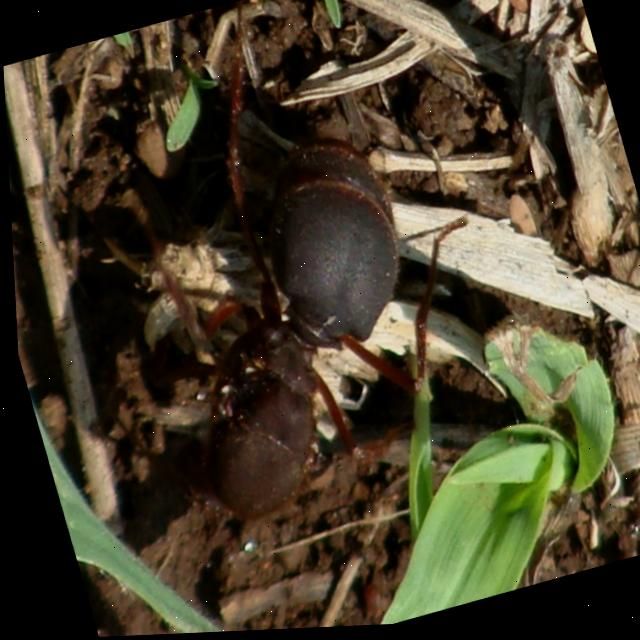Alive-Female-Dealate: (52, 0, 529, 543)
